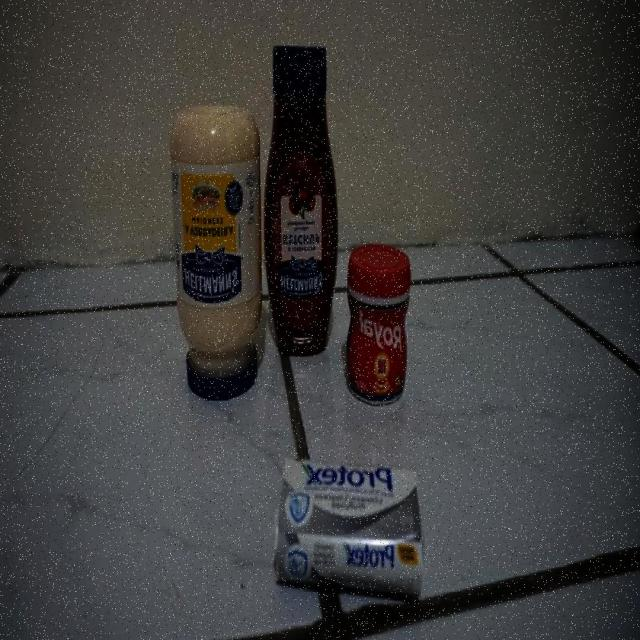Ketchup: (264, 44, 339, 355)
Mayonnaise: (171, 105, 262, 402)
Soap: (271, 456, 429, 596)
Yeast: (344, 240, 409, 404)
